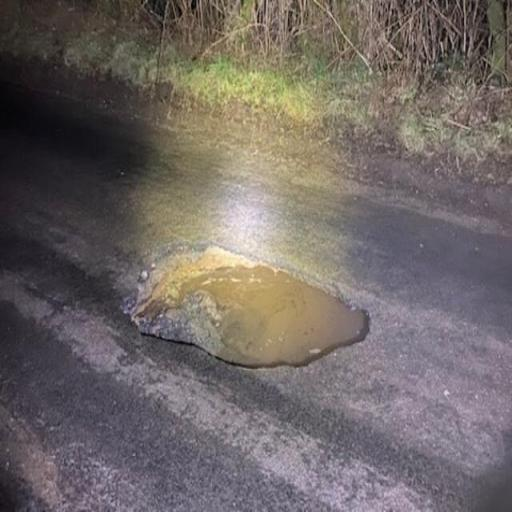Concentric_Crack: (123, 242, 369, 368)
